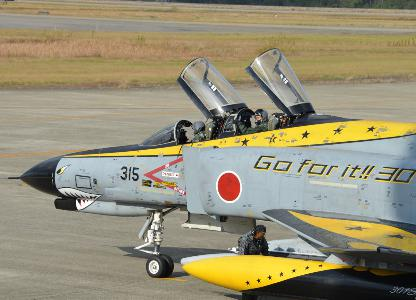F35: (0, 47, 416, 297)
